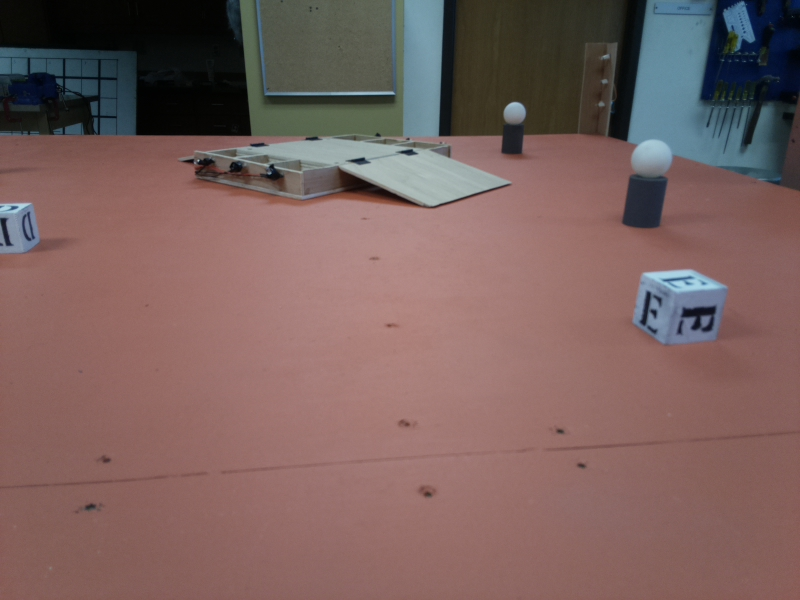blockD: (1, 201, 44, 258)
blockE: (635, 266, 726, 344)
corner: (582, 44, 611, 136)
obstacle: (623, 141, 673, 225), (502, 99, 530, 158)
side: (190, 152, 312, 194)
slope: (330, 155, 506, 205)
